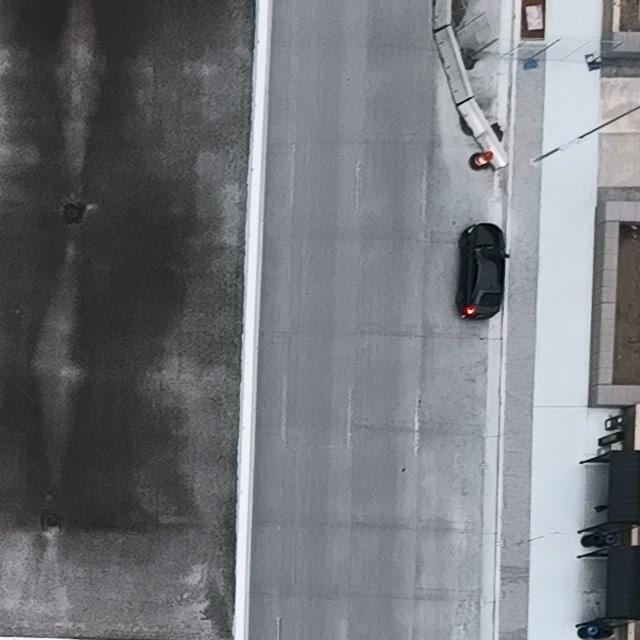car: (456, 223, 512, 319)
